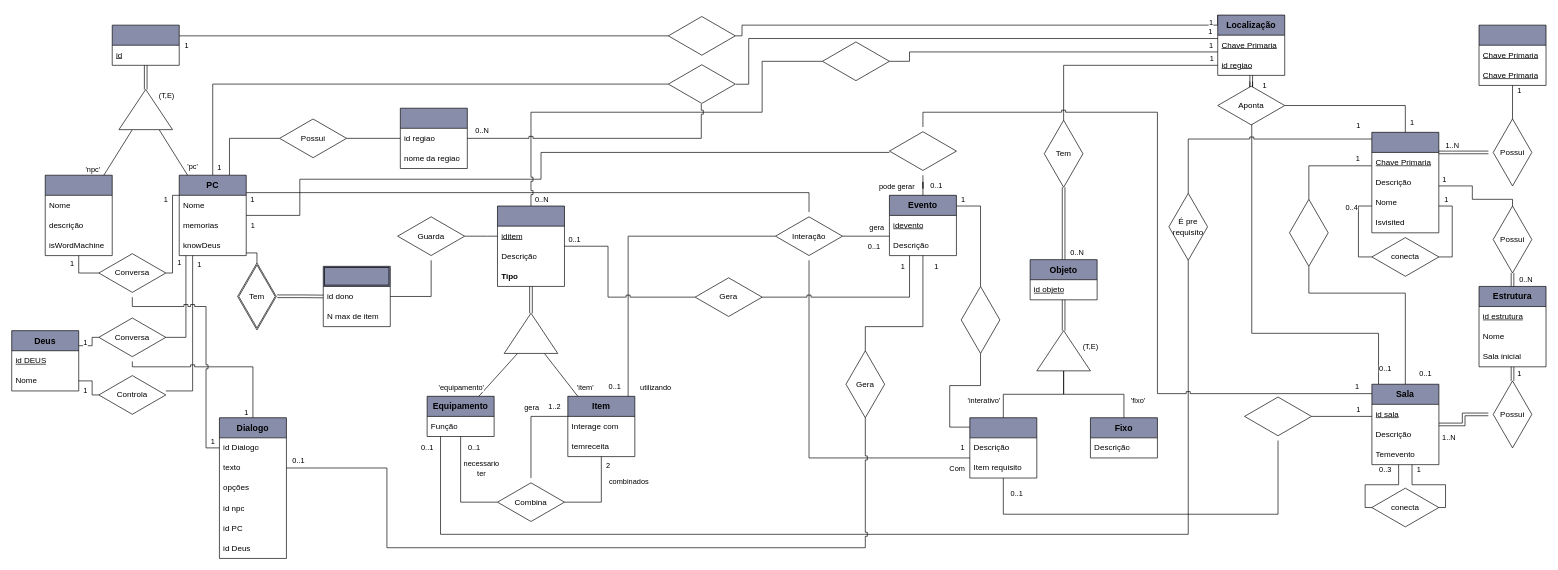
This 1558x570 diagram has some shape labels left out. Here are the shapes that lost their labels. From the top down, the box of each, then its label:
(112, 24, 179, 65): Personagem
(668, 11, 735, 60): Está
(1478, 24, 1546, 85): Fase
(822, 37, 889, 85): Pode ter
(668, 59, 735, 108): Viagem Rapida
(400, 108, 467, 169): Regioes Visitadas
(889, 126, 956, 175): Primeira visita
(1371, 132, 1439, 233): Região
(45, 175, 112, 256): NPC
(1284, 199, 1333, 266): Saida
(497, 205, 564, 286): Itens
(323, 266, 390, 327): Inventario
(956, 286, 1005, 353): Altera
(1244, 392, 1312, 441): Trava
(969, 417, 1037, 478): Interativo
